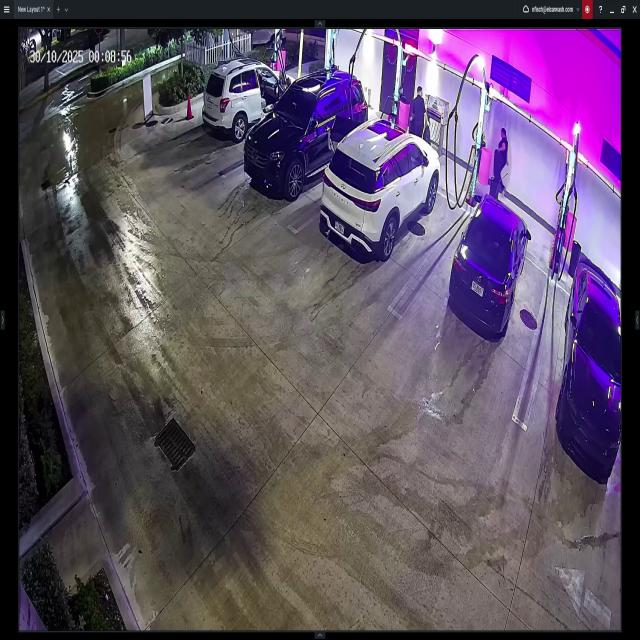Car: (322, 121, 440, 259), (245, 66, 366, 196), (559, 256, 620, 481), (448, 190, 530, 334), (205, 54, 298, 140)
